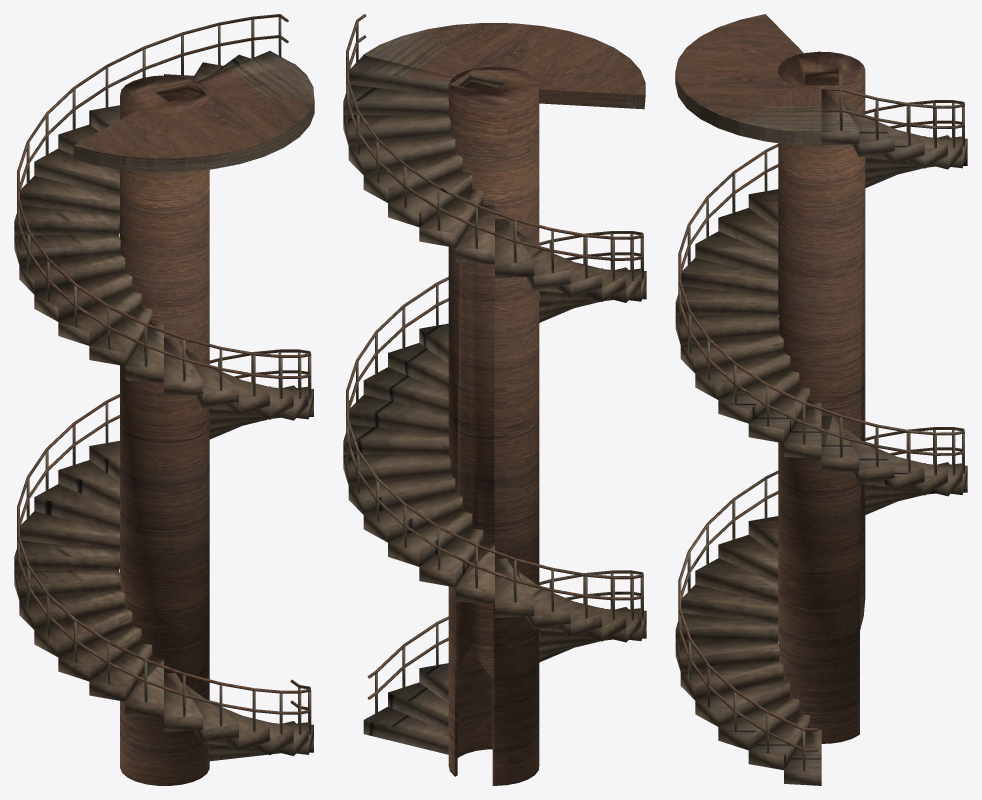
3 views of the same model, side by side, from view 1: azimuth 30°, elevation 25°; view 2: azimuth 150°, elevation 25°; view 3: azimuth 270°, elevation 25° (orthographic). The views are drawn at different scales.
Parts seen in each view (by area): view 1: オブジェクト; view 2: オブジェクト; view 3: オブジェクト.
Part boxes in pixels (x1,y1,x2,y2): オブジェクト: [14, 14, 314, 785]; オブジェクト: [343, 14, 646, 785]; オブジェクト: [675, 14, 967, 785].
Size of what is drawn, in the model's own units: 7.61 by 19.97 by 7.59.
2 materials, 2 textured.
